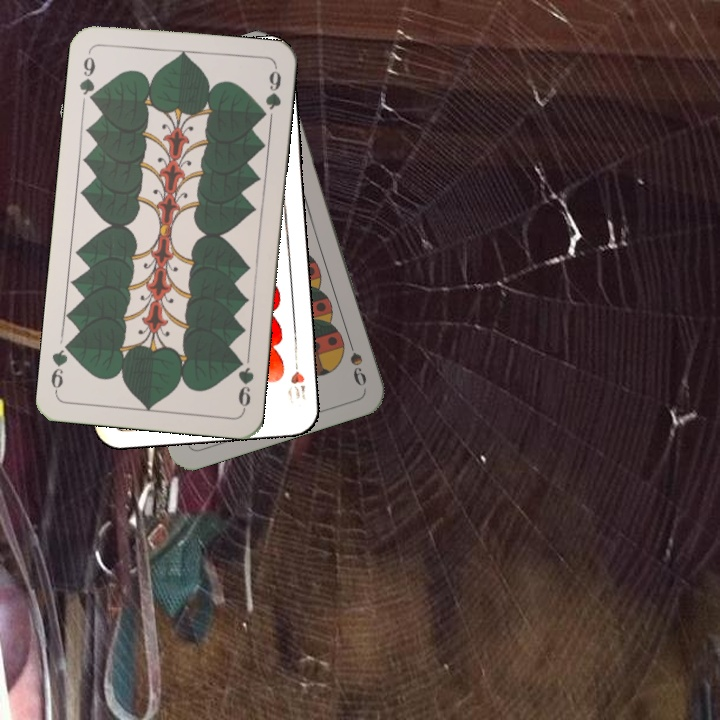G9: (232, 353, 257, 413), (75, 47, 99, 107)
H10: (284, 350, 308, 406)
S9: (342, 331, 369, 389)
